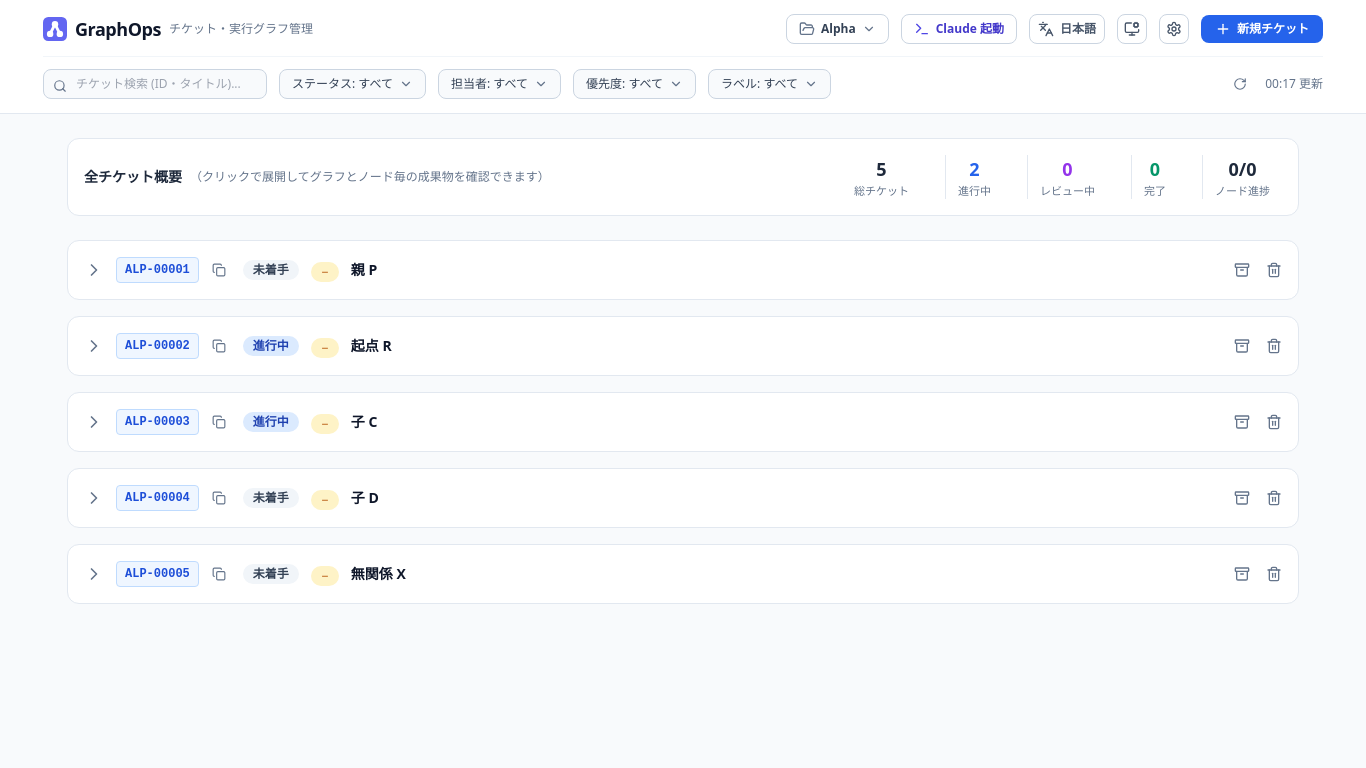
autopilot in the Web UI › shows one autopilot button, at the right end of the action row
Expected: the text "ALP-00001" is shown, top-left (116, 257), bottom-right (199, 283)
Click the element with test id "ticket-header-row": [157, 574] box top-left (84, 561), bottom-right (1286, 587)
(page scrolled)
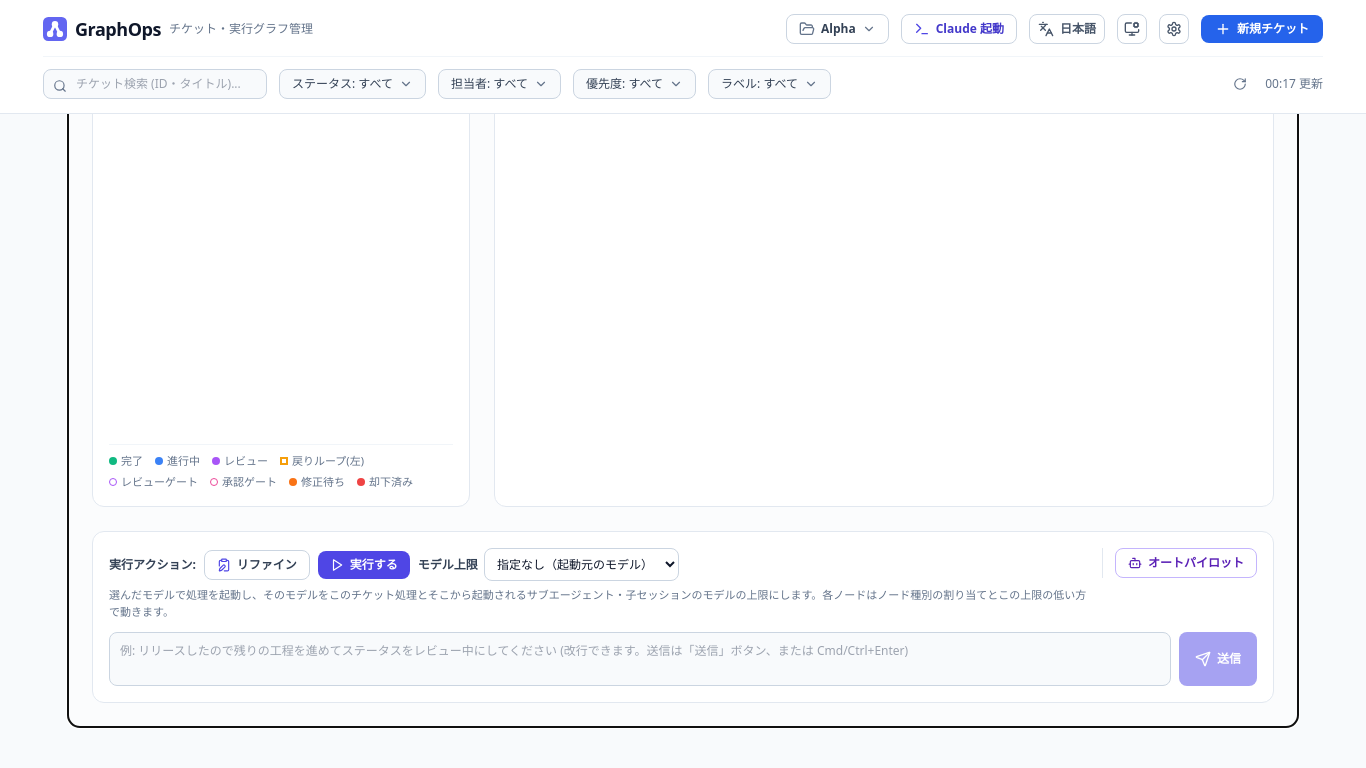
Expected: the button with test id "autopilot-start" is enabled, top-left (1115, 548), bottom-right (1257, 578)
Expected: the number of buttons with test id "autopilot-start" is 1, top-left (1115, 548), bottom-right (1257, 578)
